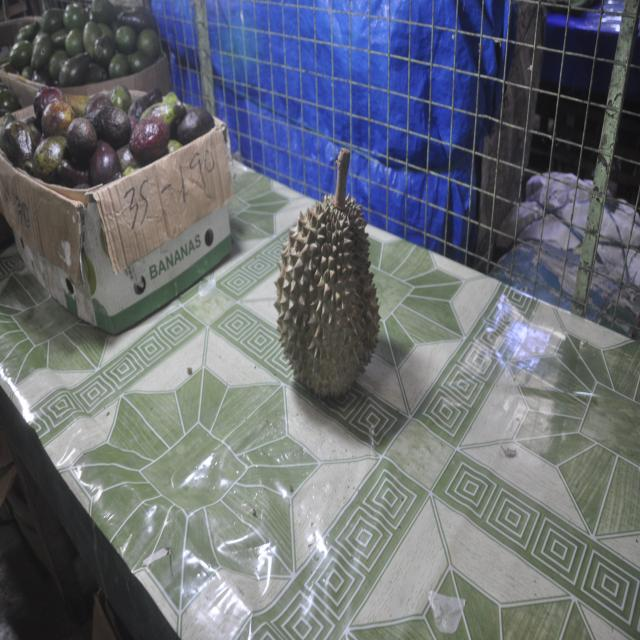mature: (269, 141, 389, 405)
